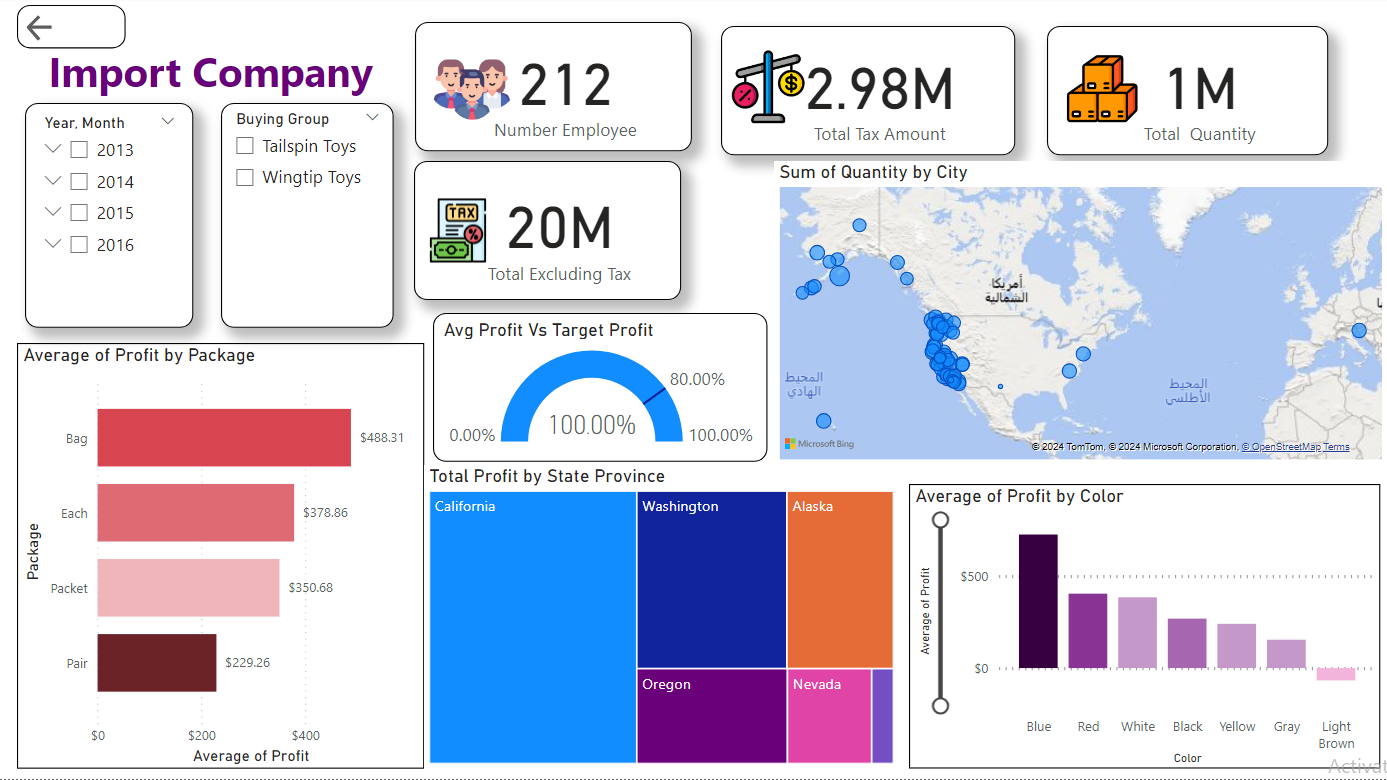

This screenshot's page, from the dashboard's own definition file:
{"tool":"powerbi","page":{"name":"Page Two","canvas":[1280,720],"ordinal":1},"visuals":[{"type":"card","fields":{"Values":["CountNonNull(DimEmployee.Employee)"]},"box":[383.8,22.6,255.2,119.4],"z":0},{"type":"textbox","box":[0,38.1,375.9,59.5],"z":1000},{"type":"image","box":[392,44.2,87.5,82.3],"z":2000},{"type":"card","fields":{"Values":["Sum(FactSale.Tax Amount)"]},"box":[665.7,26.8,270.6,119.4],"z":3000},{"type":"image","box":[665.7,44.2,86.4,77.2],"z":4000},{"type":"card","fields":{"Values":["Sum(FactSale.Total Excluding Tax)"]},"box":[383.1,151,245.9,128],"z":5000},{"type":"card","fields":{"Values":["Sum(FactSale.Quantity)"]},"box":[966.2,26.8,259.3,119.4],"z":6000},{"type":"image","box":[973.4,47.3,86.4,75.1],"z":7000},{"type":"image","box":[383.1,180.5,81,69.1],"z":8000},{"type":"clusteredBarChart","fields":{"Category":["FactSale.Package"],"Y":["Avg(FactSale.Profit)"]},"box":[17.5,319,374.5,392],"z":9000},{"type":"map","fields":{"Category":["DimCity.City"],"Size":["Sum(FactSale.Quantity)"]},"box":[714.9,151.1,565.1,279.6],"z":10000},{"type":"slicer","fields":{"Values":["DimDate.Date.Variation.Date Hierarchy.Year","DimDate.Date.Variation.Date Hierarchy.Month"]},"box":[24.7,97.7,155.4,206.8],"z":11000},{"type":"slicer","fields":{"Values":["DimCustomer.Buying Group"]},"box":[205.8,97.7,159.5,206.8],"z":12000},{"type":"columnChart","fields":{"Y":["Avg(FactSale.Profit)"],"Category":["DimStockItem.Color"]},"box":[838.6,448.6,434.2,262.4],"z":13000},{"type":"treemap","title":"Total Profit by State Province","fields":{"Group":["DimCity.State Province"],"Values":["Sum(FactSale.Profit)"]},"box":[392,431.1,437.3,279.9],"z":14000},{"type":"gauge","title":" Avg Profit Vs Target Profit","fields":{"Y":["Avg(FactSale.Profit)"],"MaxValue":["Dax.Maximum Profit Margin"],"TargetValue":["Dax.Target Profit Margin1"]},"box":[400.3,291.2,307.7,136.8],"z":15000},{"type":"actionButton","box":[17.8,7.1,99.9,40.4],"z":16000}]}

Visuals, with their boxes in screenshot pixels (x1, y1, x2, y2), scaled from the page's 1280x720 canvas onto the 1387x780 screenshot:
card - CountNonNull(DimEmployee.Employee): <box>416,24,692,154</box>
textbox: <box>0,41,407,106</box>
image: <box>425,48,520,137</box>
card - Sum(FactSale.Tax Amount): <box>721,29,1015,158</box>
image: <box>721,48,815,132</box>
card - Sum(FactSale.Total Excluding Tax): <box>415,164,682,302</box>
card - Sum(FactSale.Quantity): <box>1047,29,1328,158</box>
image: <box>1055,51,1148,133</box>
image: <box>415,196,503,270</box>
clusteredBarChart - FactSale.Package x Avg(FactSale.Profit): <box>19,346,425,770</box>
map - DimCity.City x Sum(FactSale.Quantity): <box>775,164,1386,467</box>
slicer - DimDate.Date.Variation.Date Hierarchy.Year x DimDate.Date.Variation.Date Hierarchy.Month: <box>27,106,195,330</box>
slicer - DimCustomer.Buying Group: <box>223,106,396,330</box>
columnChart - Avg(FactSale.Profit) x DimStockItem.Color: <box>909,486,1379,770</box>
"Total Profit by State Province" treemap: <box>425,467,899,770</box>
" Avg Profit Vs Target Profit" gauge: <box>434,315,767,464</box>
actionButton: <box>19,8,128,51</box>
